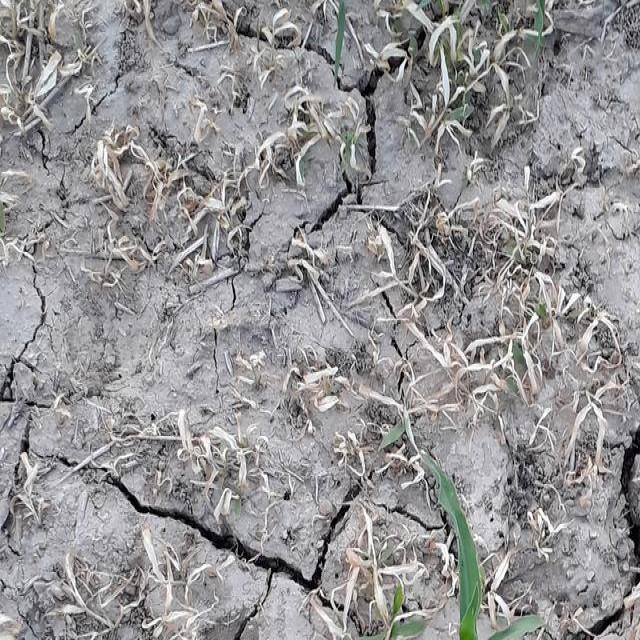weed: (294, 351, 561, 640)
